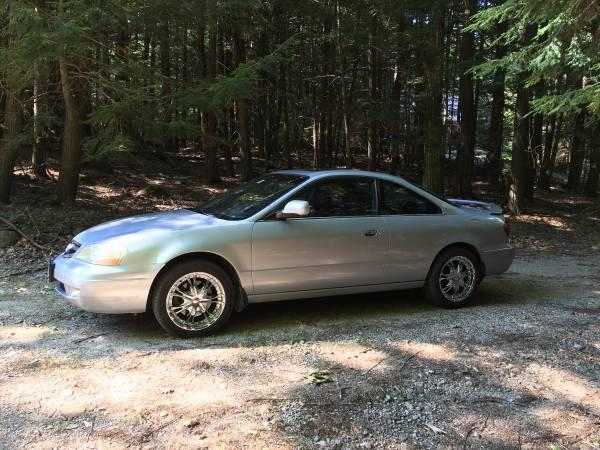acura: (45, 167, 526, 340)
